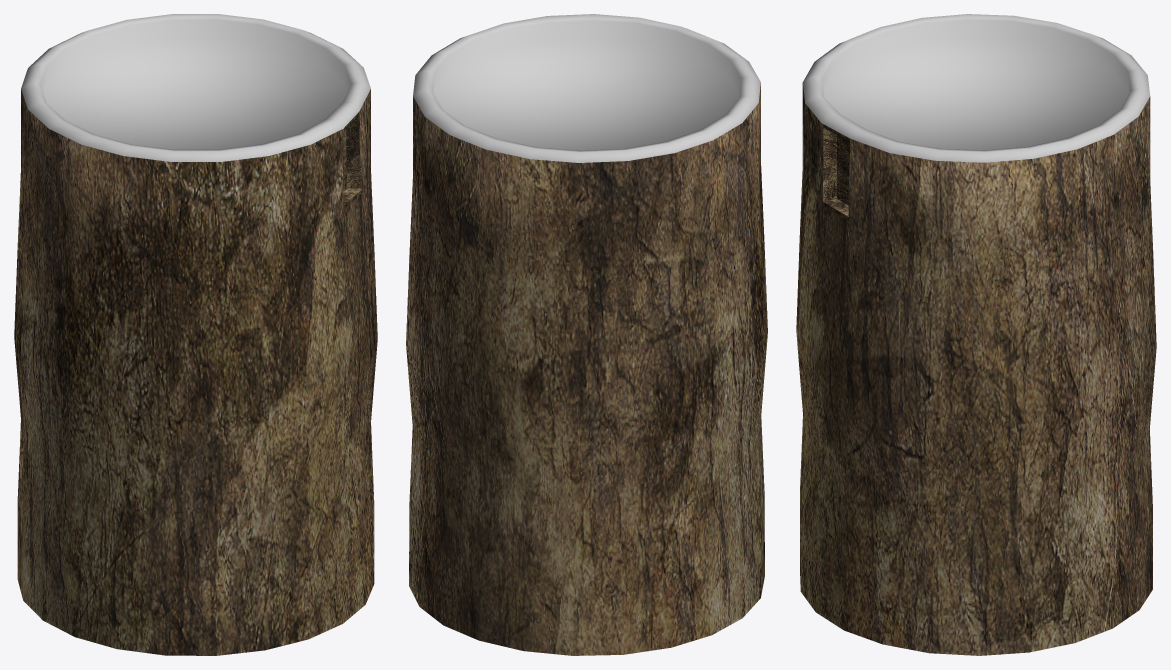
Rendered from tower02.FBX.
3 renders of one model, left to right at view 1: azimuth 30°, elevation 25°; view 2: azimuth 150°, elevation 25°; view 3: azimuth 270°, elevation 25°, orthographic.
Visible parts, largest first — view 1: base001; view 2: base001; view 3: base001.
Part boxes in pixels (x1,y1,x2,y2): base001: (14,14,377,655); base001: (406,14,767,655); base001: (796,14,1156,655).
Size of the model in its own units: 102 by 101 by 154.
